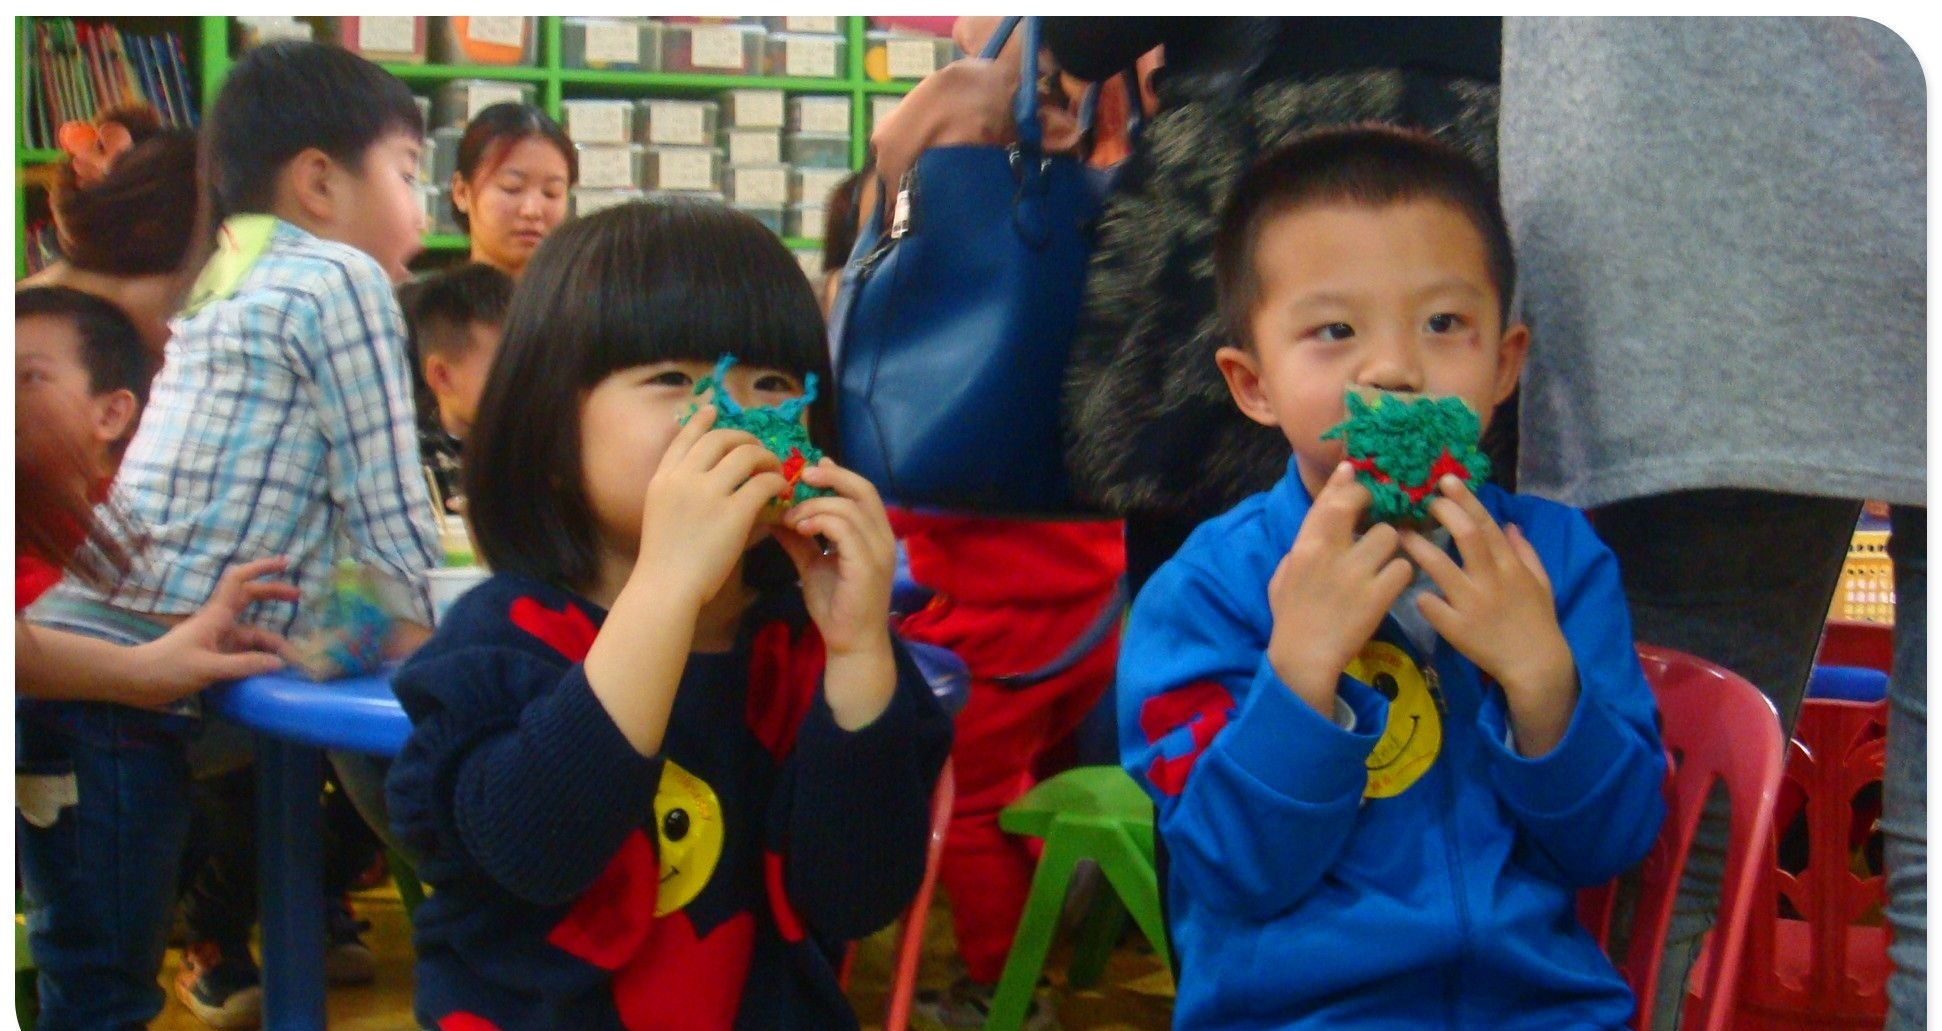face: (1261, 194, 1493, 490), (583, 329, 806, 560), (476, 148, 574, 261), (11, 336, 84, 479)
